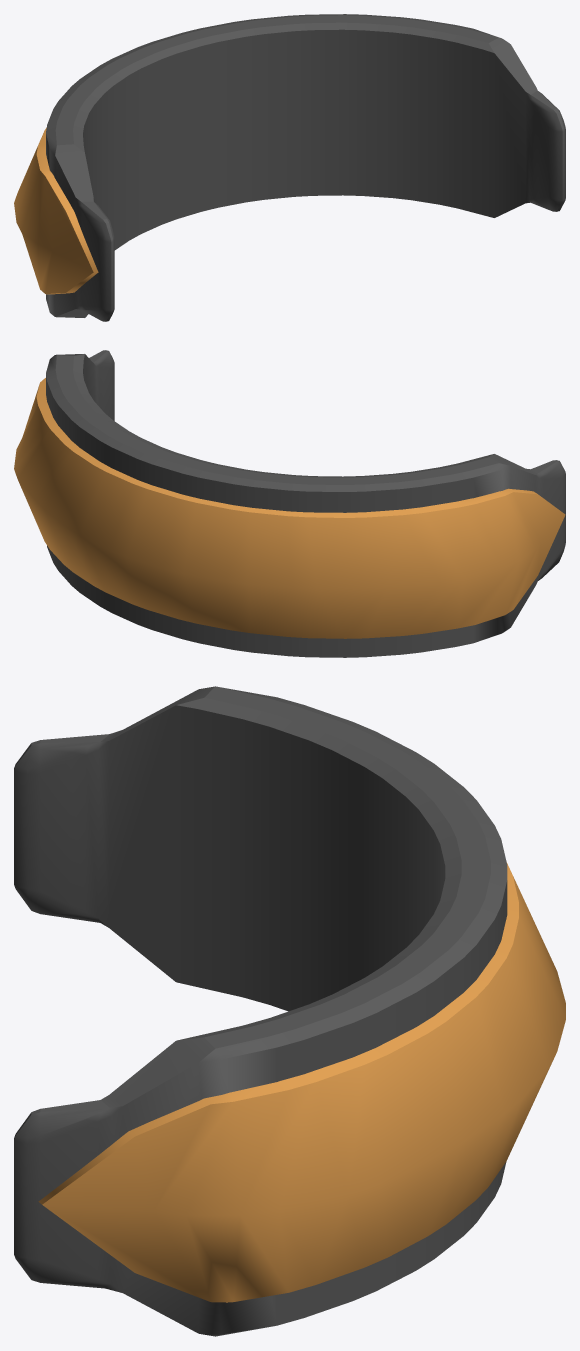
File: FuturisticVisor.glb
3 renders of one model, top to bottom at view 1: azimuth 30°, elevation 25°; view 2: azimuth 150°, elevation 25°; view 3: azimuth 270°, elevation 25°, orthographic. The views are drawn at different scales.
Parts seen in each view (by area): view 1: Cylinder.001, Cylinder.002; view 2: Cylinder.002, Cylinder.001; view 3: Cylinder.001, Cylinder.002.
Boxes of the visible parts, box(x1,y1,x2,y2) form: Cylinder.001: box(46, 14, 565, 321); Cylinder.002: box(14, 128, 98, 294); Cylinder.002: box(14, 378, 565, 638); Cylinder.001: box(46, 350, 565, 657); Cylinder.001: box(14, 686, 507, 1336); Cylinder.002: box(38, 862, 565, 1302).
Bounding box in the file's own units: 1.32 × 0.4349 × 0.7559.
